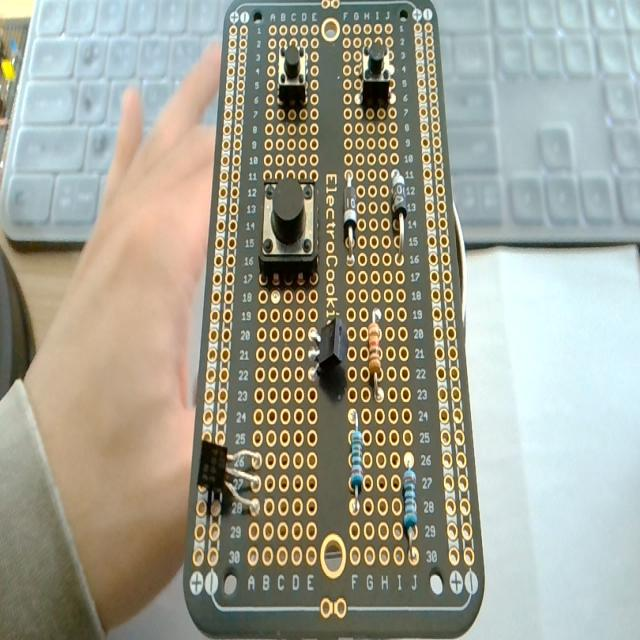diode: (391, 167, 408, 260), (343, 171, 357, 255)
resistor: (347, 408, 364, 512), (366, 313, 384, 402), (401, 467, 418, 559)
switch: (258, 173, 320, 278), (277, 42, 307, 105), (361, 43, 391, 106)
transistor: (194, 435, 260, 517), (308, 315, 348, 377)
